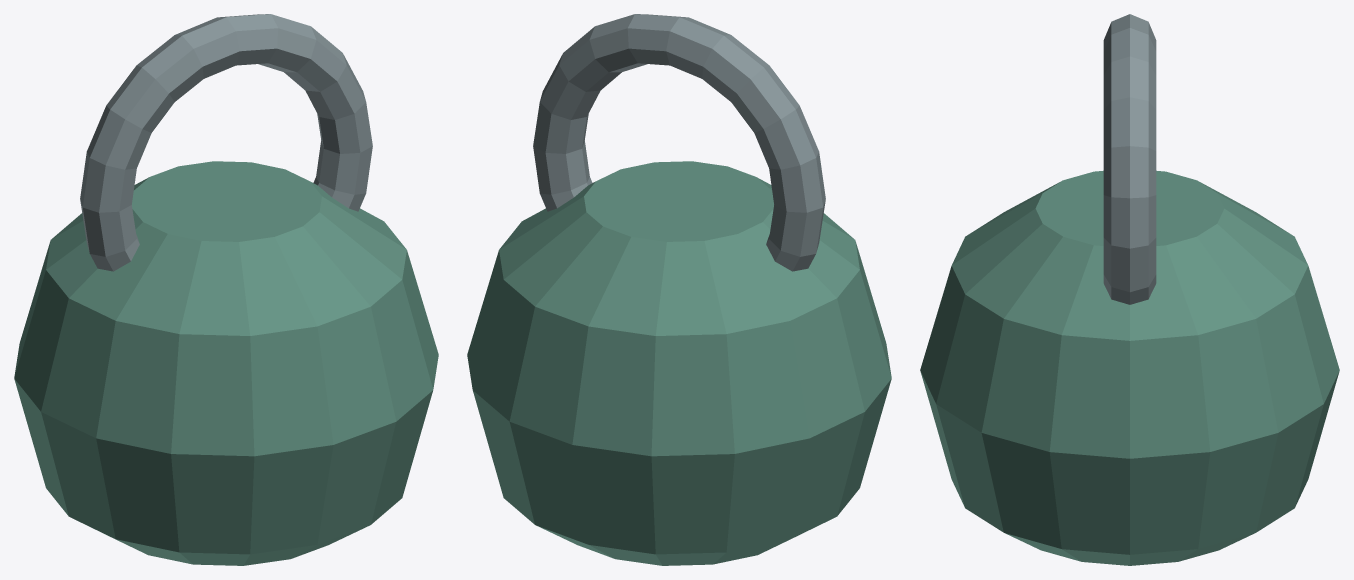
The picture shows the model from 3 angles, left to right: view 1: azimuth 30°, elevation 25°; view 2: azimuth 150°, elevation 25°; view 3: azimuth 270°, elevation 25°; orthographic projection. The views are drawn at different scales.
Parts seen in each view (by area): view 1: fitness-kettlebell-01; view 2: fitness-kettlebell-01; view 3: fitness-kettlebell-01.
Part boxes in pixels (box(x1,y1,x2,y2)): fitness-kettlebell-01: box(14, 14, 438, 565); fitness-kettlebell-01: box(467, 14, 891, 565); fitness-kettlebell-01: box(920, 14, 1339, 565).
Size of the model in its own units: 0.4 by 0.51 by 0.4.
